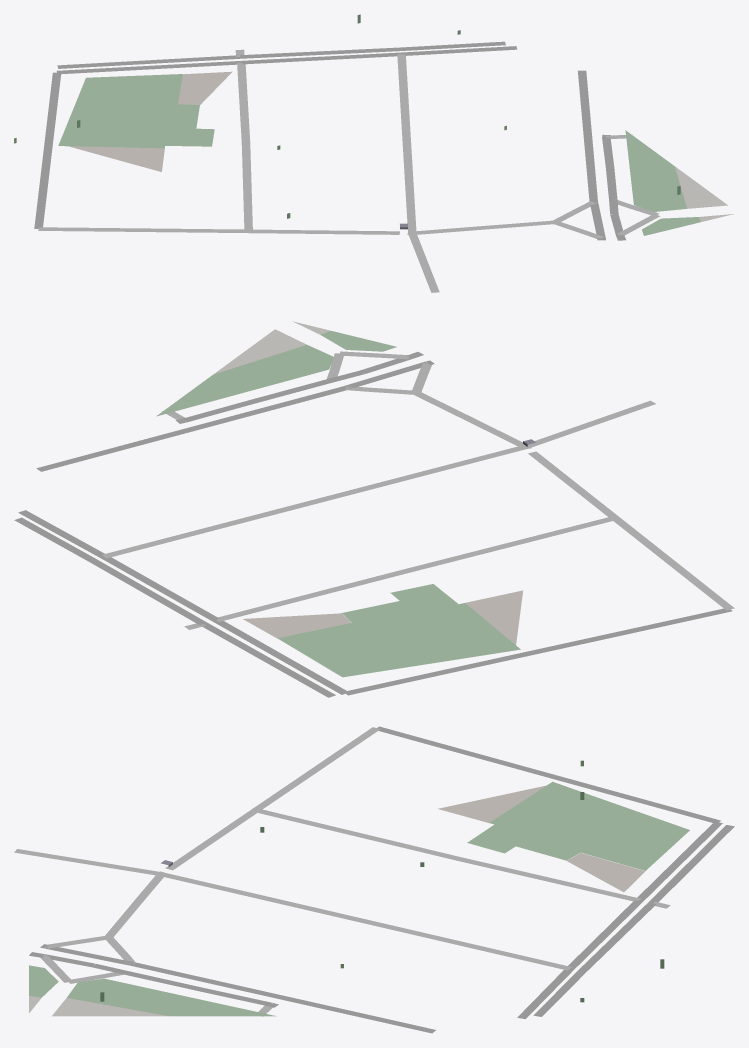
3 renders of one model, top to bottom at view 1: azimuth 30°, elevation 25°; view 2: azimuth 150°, elevation 25°; view 3: azimuth 270°, elevation 25°, orthographic. The views are drawn at different scales.
Bounding box in the file's own units: 545 × 9.09 × 541.
